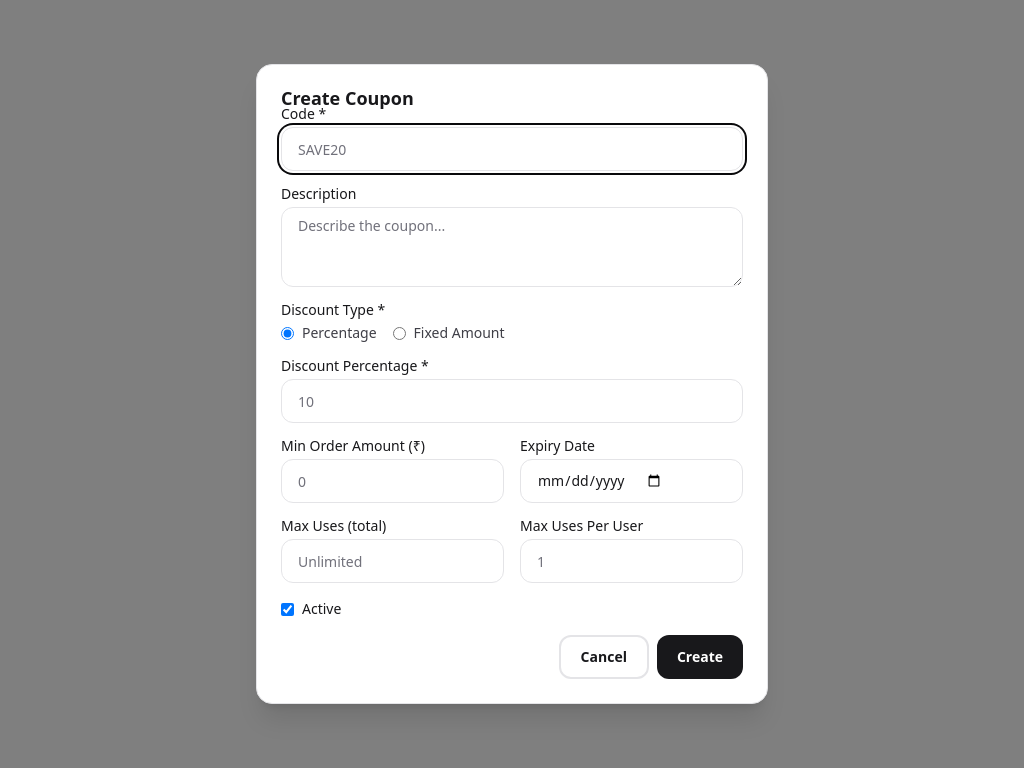
Test: CouponModal › submits a POST request with the entered data when valid and mode is create
Type "newcode" into the field labelled "Code *" at x=512, y=149, box left=281, top=127, right=743, bottom=171
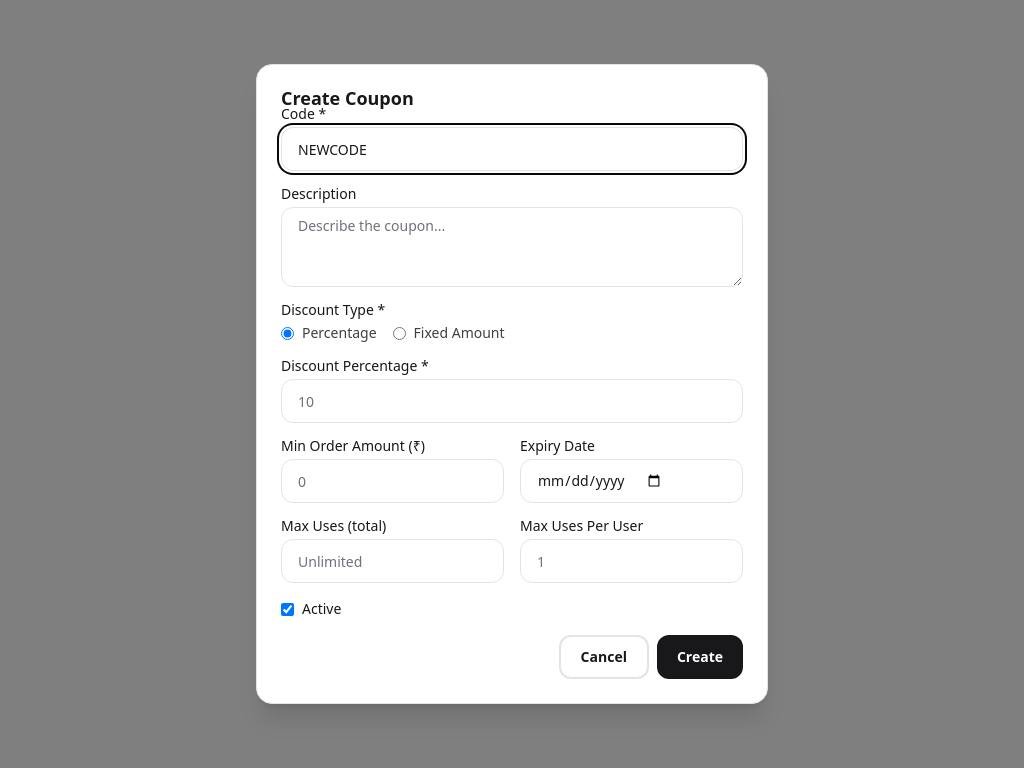
Type "20" into the number field labelled "Discount Percentage *" at x=512, y=401, box left=281, top=379, right=743, bottom=423
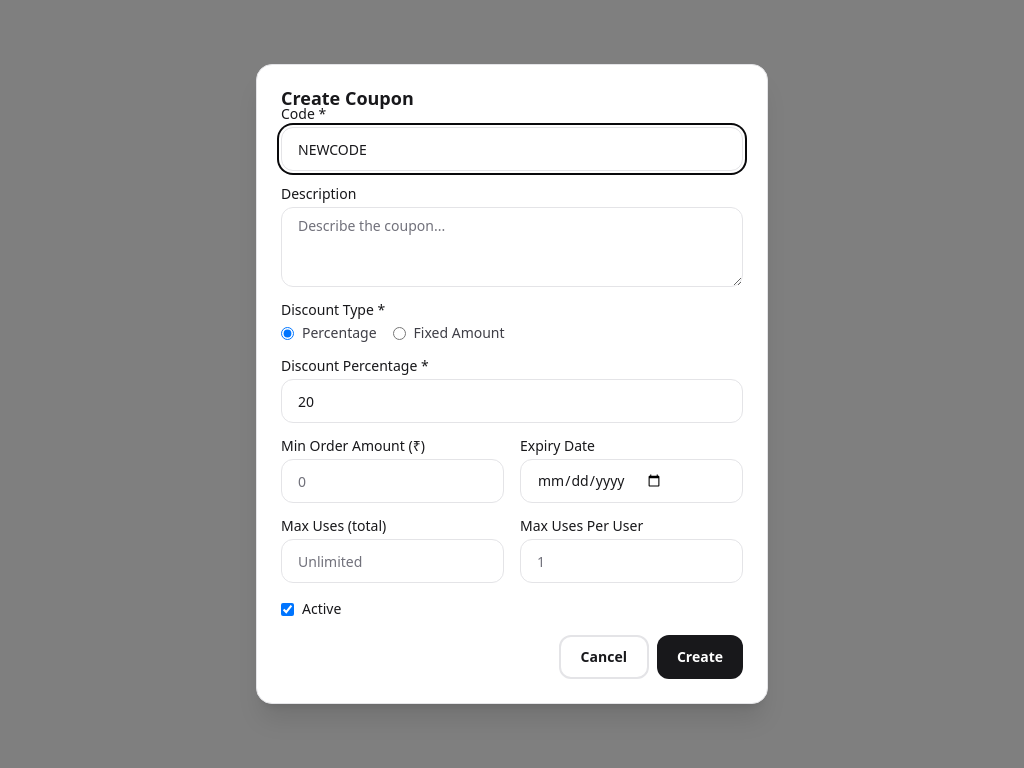
Click the button "Create" at x=700, y=657, box left=657, top=635, right=743, bottom=679
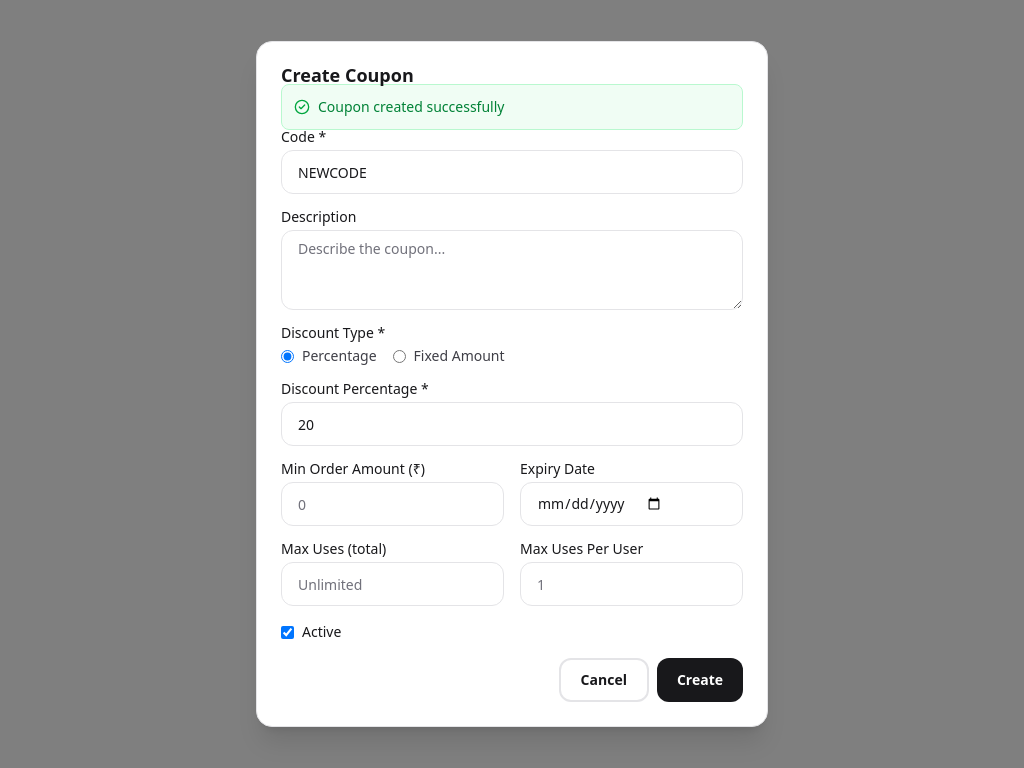
Expected: the text "Coupon created successfully" is shown, left=318, top=97, right=504, bottom=117
